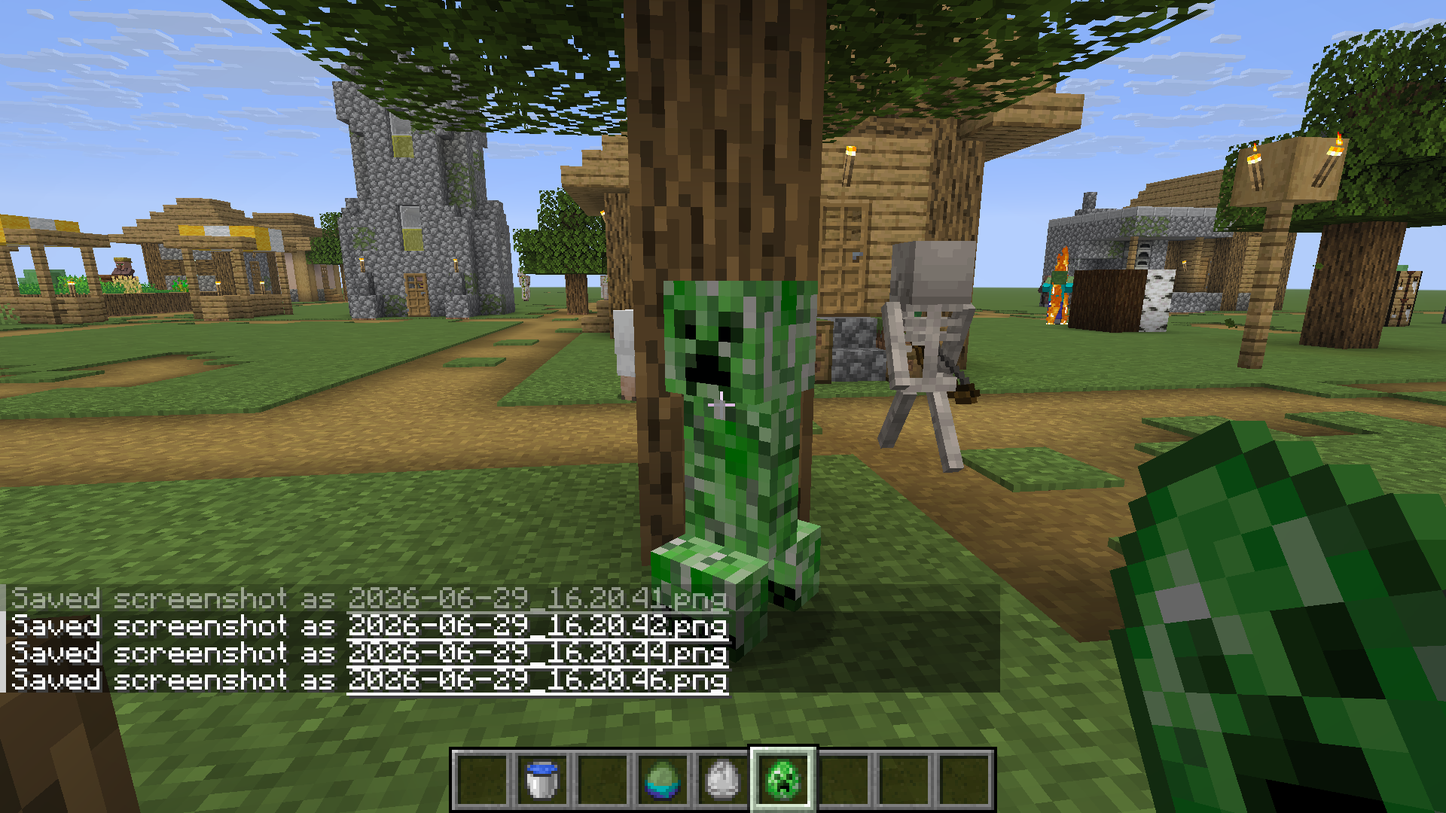creeper: (657, 277, 827, 601)
skeleton: (881, 231, 989, 479)
